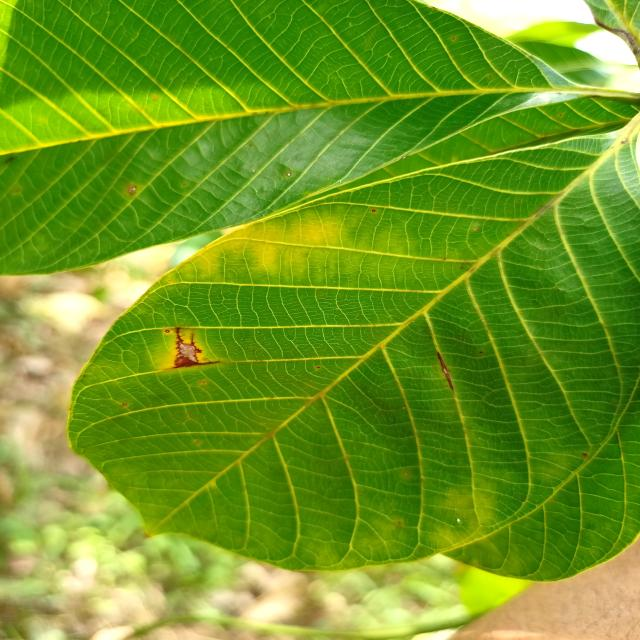Colletotrichum: (287, 173, 292, 176), (165, 330, 170, 332), (372, 210, 376, 212)
Corynespora: (174, 326, 220, 368), (436, 352, 455, 391)
Leaf-Blight: (180, 344, 198, 362)
